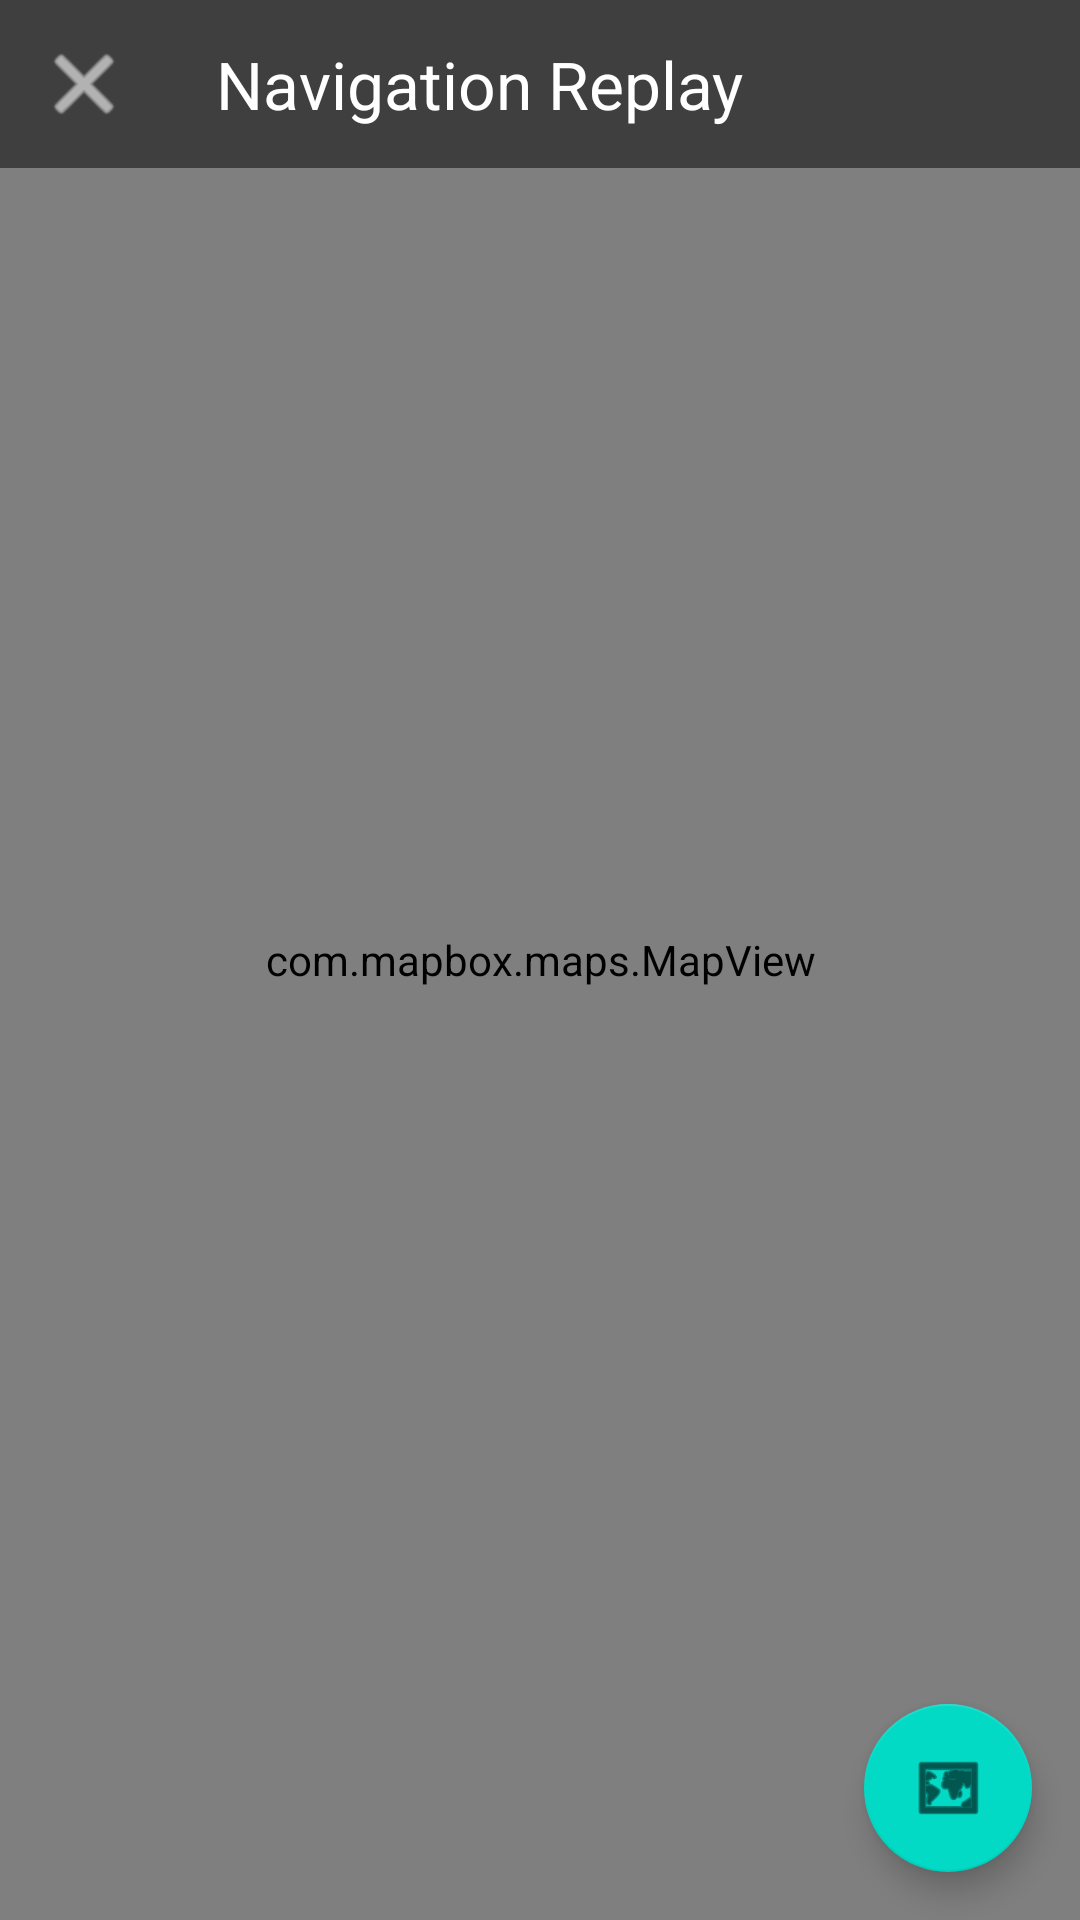

Icon click points for this 1080*1920 phone screenshot, format point (x, y):
Route Overview: point (948, 1788)
